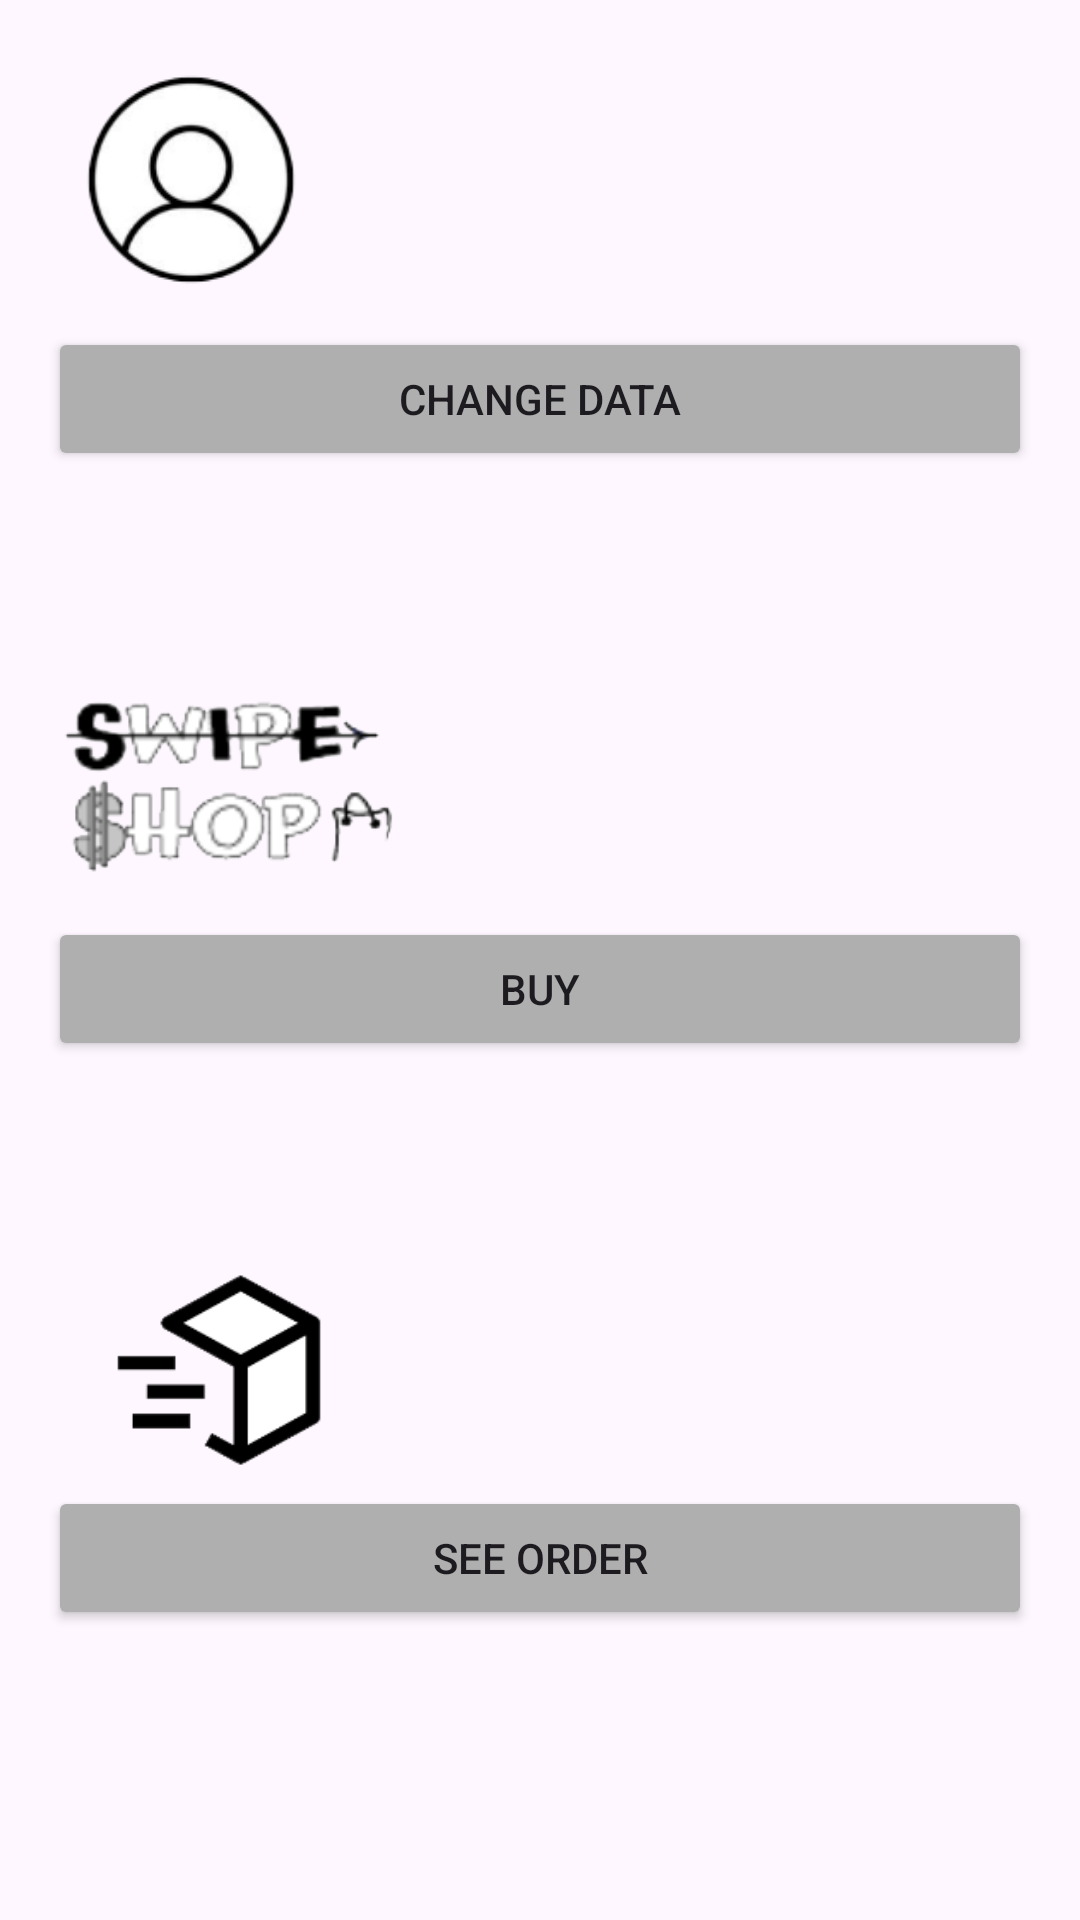

Icons on this 1080px x 1920px Android screen, each with the point to tap as point (x, y):
acc: point (191, 180)
encome: point (219, 1370)
